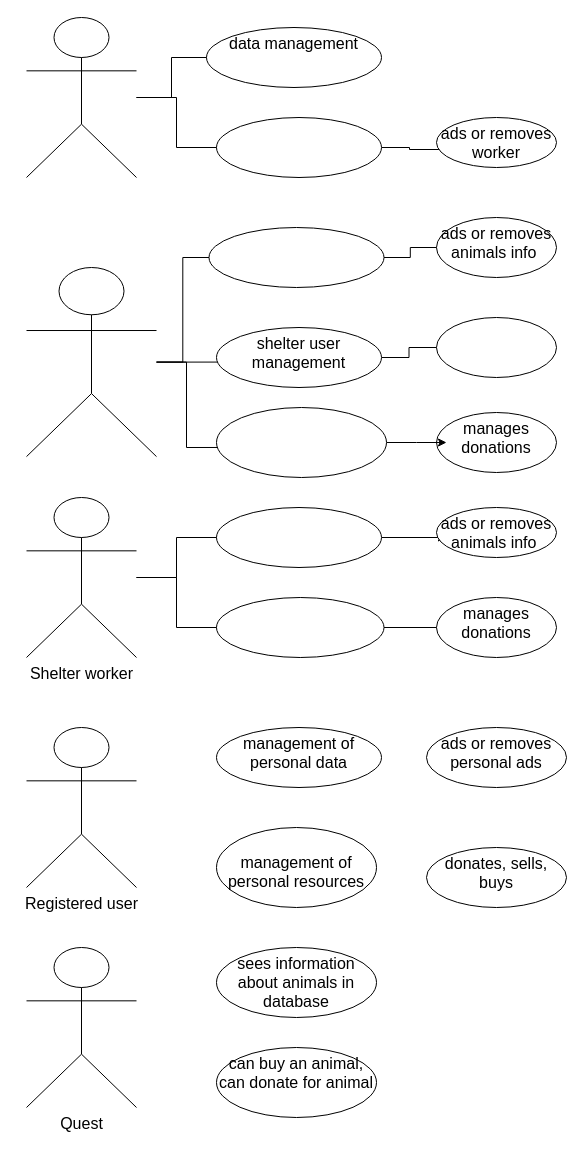
Some shapes in this 584 by 1170 pixel diagram are drawn without their labels. Each missing label, with the centre of its shape:
Admin: the point at 81,97
ads or removes shelter worker: the point at 496,347
limited data management: the point at 299,537
limited resource management: the point at 300,627
Shelter administrator: the point at 91,361
shelter data management: the point at 296,257
shelter resource management: the point at 301,442
user management: the point at 299,147
